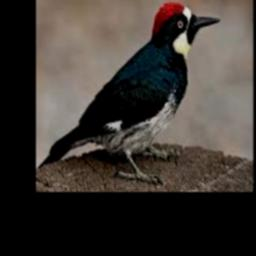Woodpecker: (38, 2, 221, 182)
